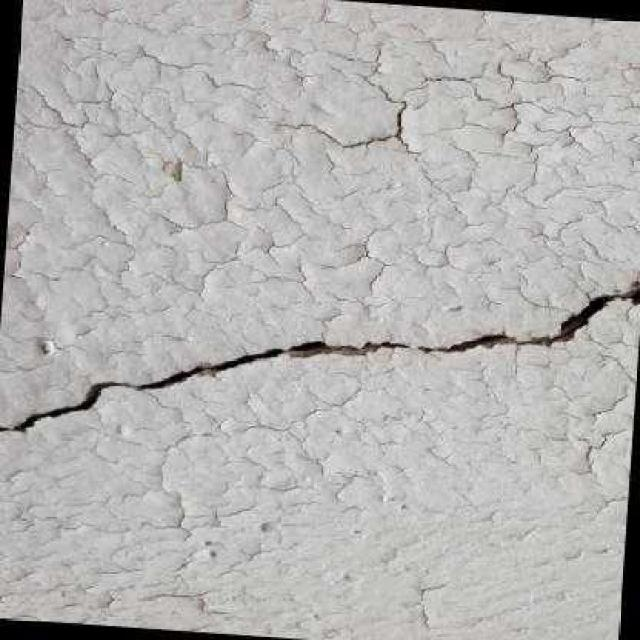D00: (0, 283, 640, 433)
